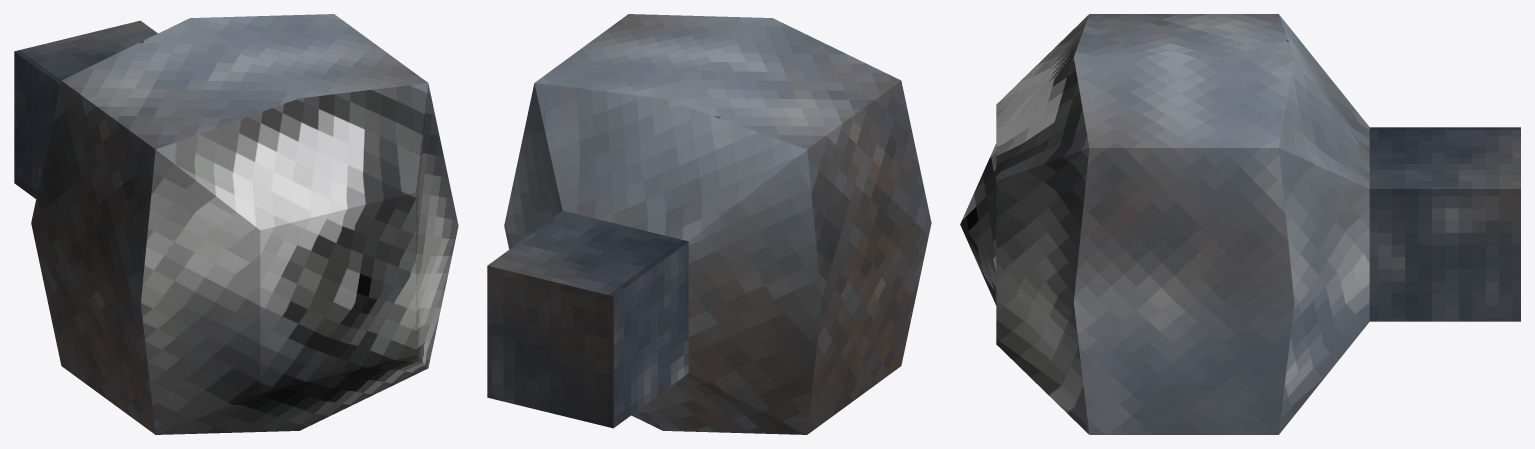
The model's file is door knob.fbx.
The picture shows the model from 3 angles, left to right: view 1: azimuth 30°, elevation 25°; view 2: azimuth 150°, elevation 25°; view 3: azimuth 270°, elevation 25°; orthographic projection.
Visible parts, largest first — view 1: pCube2; view 2: pCube2; view 3: pCube2.
Boxes of the visible parts, x1,y1,x2,y2 form: pCube2: (14,14,458,434); pCube2: (487,14,931,434); pCube2: (960,14,1520,434).
Size of the model in its own units: 13.98 by 13.98 by 21.24.
